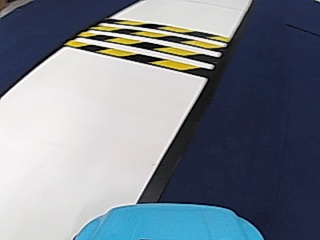bump: (90, 19, 223, 80)
